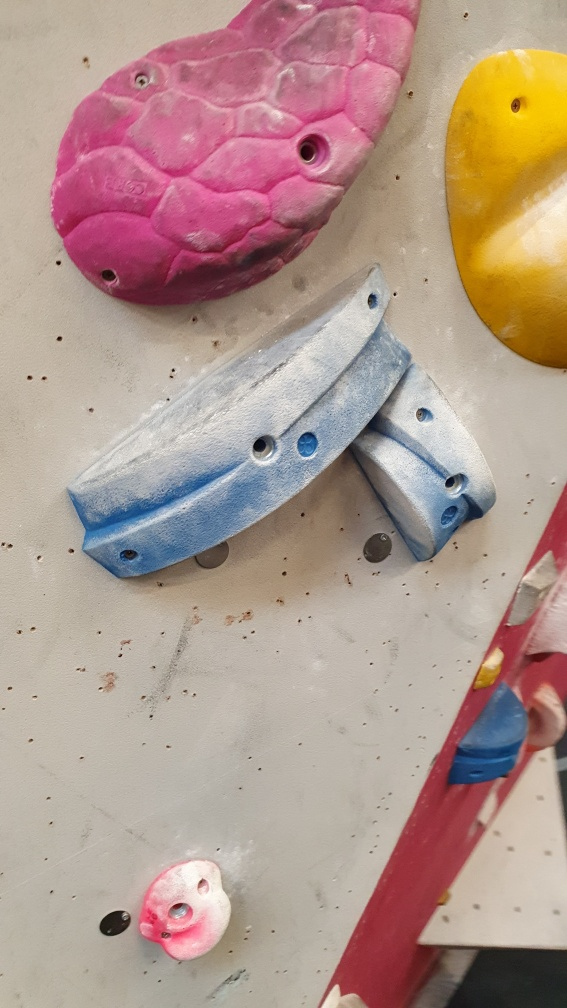Hand Start: (192, 539, 232, 573), (99, 905, 133, 941), (362, 532, 395, 565)
Pinch: (68, 263, 412, 580), (347, 355, 497, 562), (452, 683, 531, 792)
